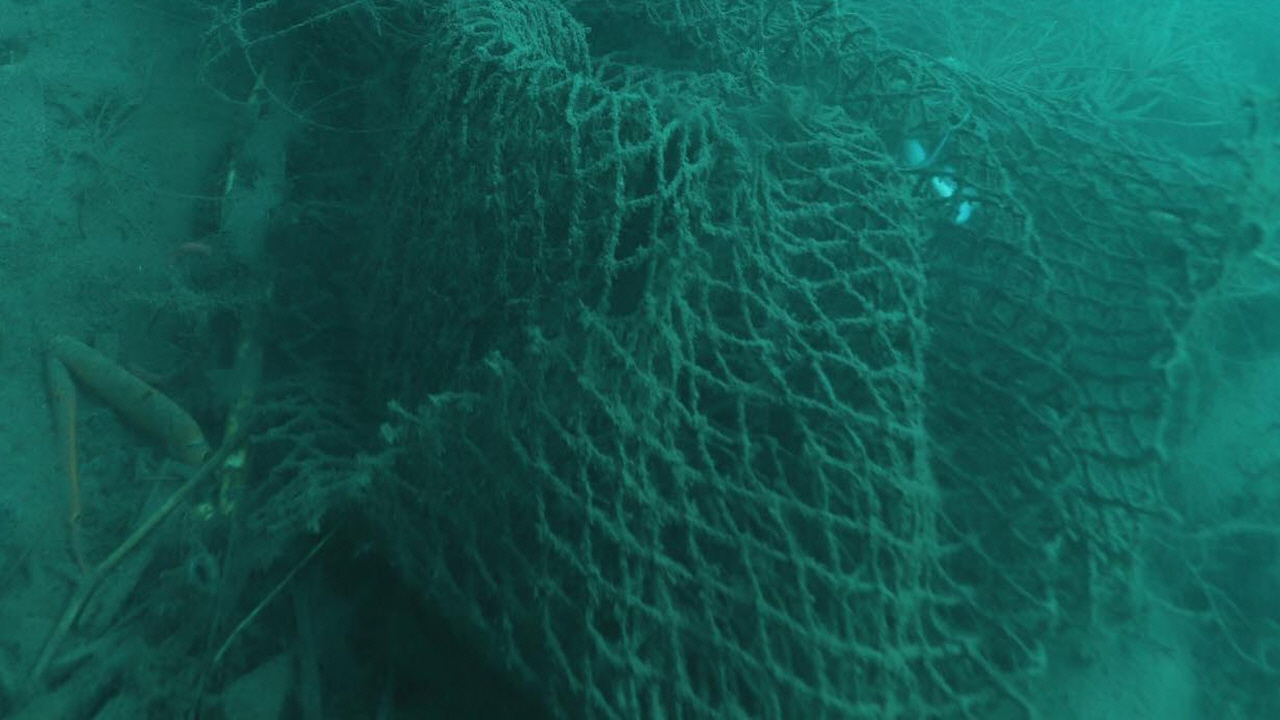fish net: (259, 0, 1228, 720)
